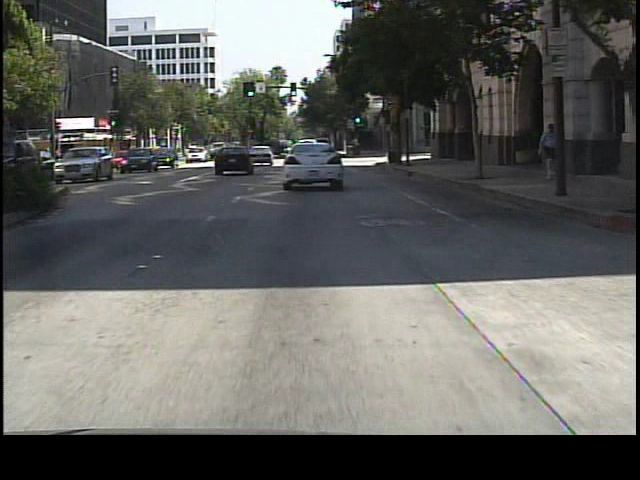person: (535, 121, 560, 187)
